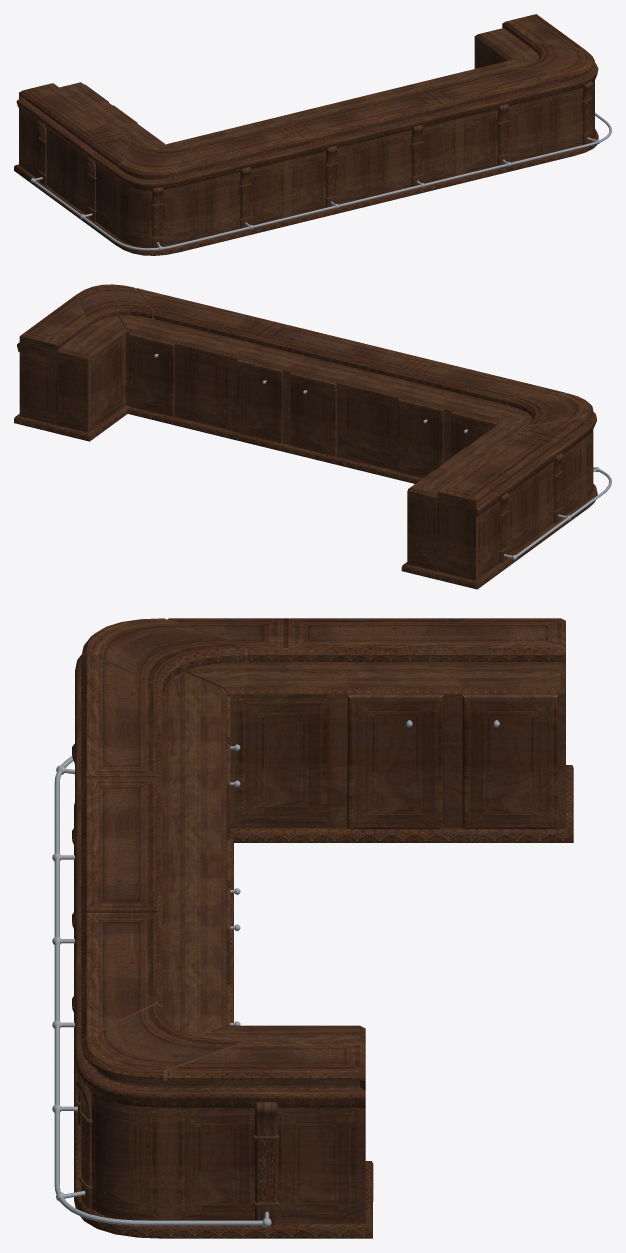
File: Prop_BarCounter.fbx
The picture shows the model from 3 angles, top to bottom: view 1: azimuth 30°, elevation 25°; view 2: azimuth 150°, elevation 25°; view 3: azimuth 270°, elevation 25°; orthographic projection. The views are drawn at different scales.
Parts seen in each view (by area): view 1: Prop_BarCounter; view 2: Prop_BarCounter; view 3: Prop_BarCounter.
Boxes of the visible parts, x1=… form: Prop_BarCounter: x1=14, y1=14, x2=611, y2=255; Prop_BarCounter: x1=14, y1=284, x2=611, y2=589; Prop_BarCounter: x1=52, y1=618, x2=573, y2=1238.
Size of the model in its own units: 290 by 45.73 by 133.
